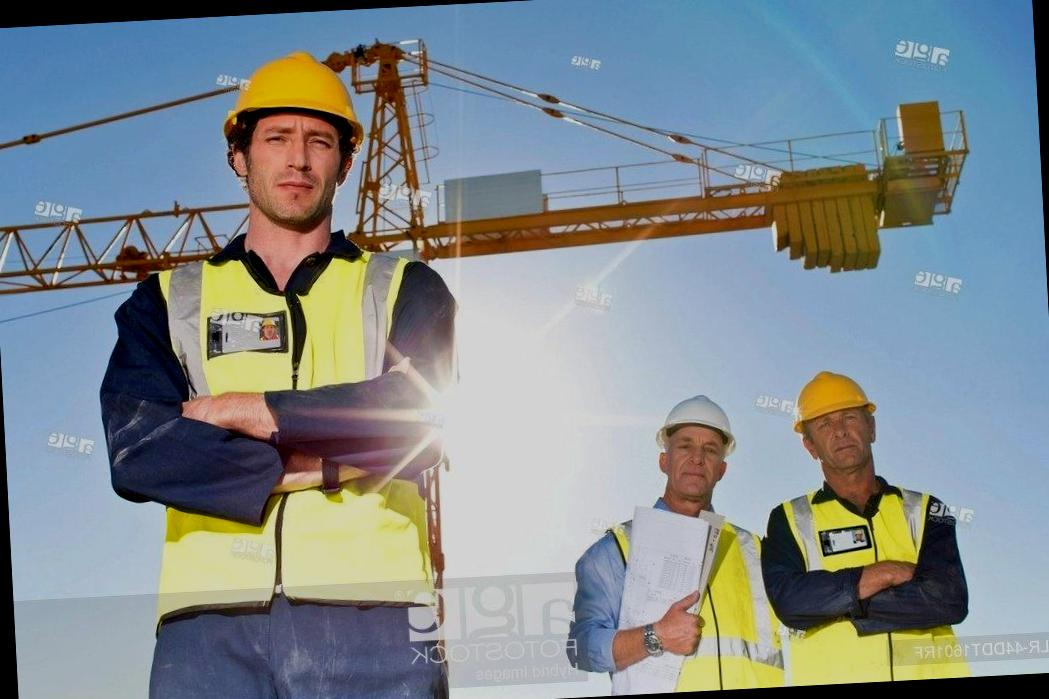helmet: (214, 52, 356, 130), (792, 367, 872, 428), (662, 390, 744, 438)
person: (73, 34, 494, 699), (738, 362, 979, 687), (548, 386, 778, 698)
